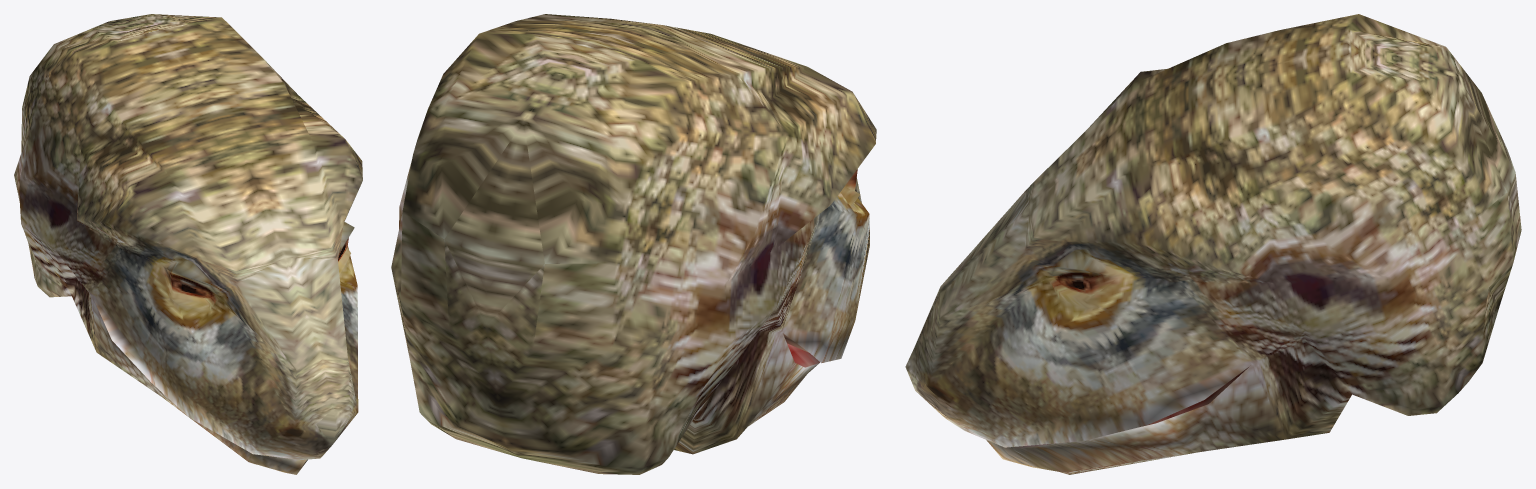
The model's file is b_n_argonian_f_head_03.glb.
3 views of the same model, side by side, from view 1: azimuth 30°, elevation 25°; view 2: azimuth 150°, elevation 25°; view 3: azimuth 270°, elevation 25° (orthographic). The views are drawn at different scales.
Visible parts, largest first — view 1: Tri B_N_Argonian_F_Head_03; view 2: Tri B_N_Argonian_F_Head_03; view 3: Tri B_N_Argonian_F_Head_03.
Part boxes in pixels (x1,y1,x2,y2): Tri B_N_Argonian_F_Head_03: [14, 14, 362, 474]; Tri B_N_Argonian_F_Head_03: [391, 14, 876, 474]; Tri B_N_Argonian_F_Head_03: [905, 14, 1521, 474].
Size of the model in its own units: 0.1052 by 0.138 by 0.1831.
1 material, 1 textured.
